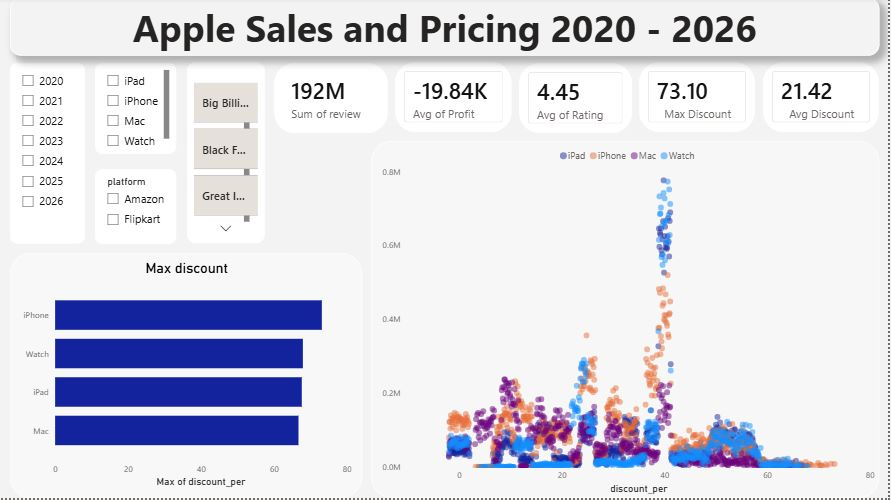

What the dashboard file says about the page in this screenshot:
{"tool":"powerbi","page":{"name":"Page 1","canvas":[1280,720],"ordinal":0},"visuals":[{"type":"scatterChart","fields":{"X":["public apple_pricing.discount_pct"],"Series":["public apple_pricing.product_category"],"Y":["Sum(public apple_pricing.reviews_count)"]},"box":[534.2,205.9,731.5,514.1],"z":0},{"type":"cardVisual","fields":{"Data":["Avg(public apple_pricing.discount_pct)"]},"box":[1098.7,92.2,167,100.8],"z":1000},{"type":"cardVisual","fields":{"Data":["Max(public apple_pricing.discount_pct)"]},"box":[920.2,92.2,167,100.8],"z":2000},{"type":"cardVisual","fields":{"Data":["Avg(public apple_pricing.profit)"]},"box":[568.8,92.2,168.5,100.8],"z":3000},{"type":"cardVisual","fields":{"Data":["Avg(public apple_pricing.rating)"]},"box":[747.4,93.6,162.7,100.8],"z":4000},{"type":"cardVisual","title":"Review","fields":{"Data":["Sum(public apple_pricing.reviews_count)"]},"box":[394.6,93.6,164.2,100.8],"z":5000},{"type":"slicer","fields":{"Values":["public apple_pricing.years"]},"box":[15.1,94.1,107.5,260.4],"z":6000},{"type":"slicer","fields":{"Values":["public apple_pricing.product_category"]},"box":[136.8,93.6,116.6,131],"z":7000},{"type":"barChart","title":"Max discount","fields":{"Y":["Max(public apple_pricing.discount_pct)"],"Category":["public apple_pricing.product_category"]},"box":[15.1,367.9,507.3,352.8],"z":8000},{"type":"cardVisual","fields":{"Rows":["public apple_pricing.sale_event"]},"box":[269.3,92.2,112.3,260.6],"z":9000},{"type":"textbox","box":[15.1,0,1252,83],"z":10000},{"type":"slicer","fields":{"Values":["public apple_pricing.platform"]},"box":[136.8,246.2,116.6,108],"z":11000}]}

Visuals, with their boxes in screenshot pixels (x1, y1, x2, y2), scaled from the page's 1280x720 canvas onto the 891x500 screenshot:
scatterChart - public apple_pricing.discount_pct x public apple_pricing.product_category: [372, 143, 881, 499]
cardVisual - Avg(public apple_pricing.discount_pct): [765, 64, 881, 134]
cardVisual - Max(public apple_pricing.discount_pct): [641, 64, 757, 134]
cardVisual - Avg(public apple_pricing.profit): [396, 64, 513, 134]
cardVisual - Avg(public apple_pricing.rating): [520, 65, 634, 135]
"Review" cardVisual: [275, 65, 389, 135]
slicer - public apple_pricing.years: [11, 65, 85, 246]
slicer - public apple_pricing.product_category: [95, 65, 176, 156]
"Max discount" barChart: [11, 255, 364, 499]
cardVisual - public apple_pricing.sale_event: [187, 64, 266, 245]
textbox: [11, 0, 882, 58]
slicer - public apple_pricing.platform: [95, 171, 176, 246]
